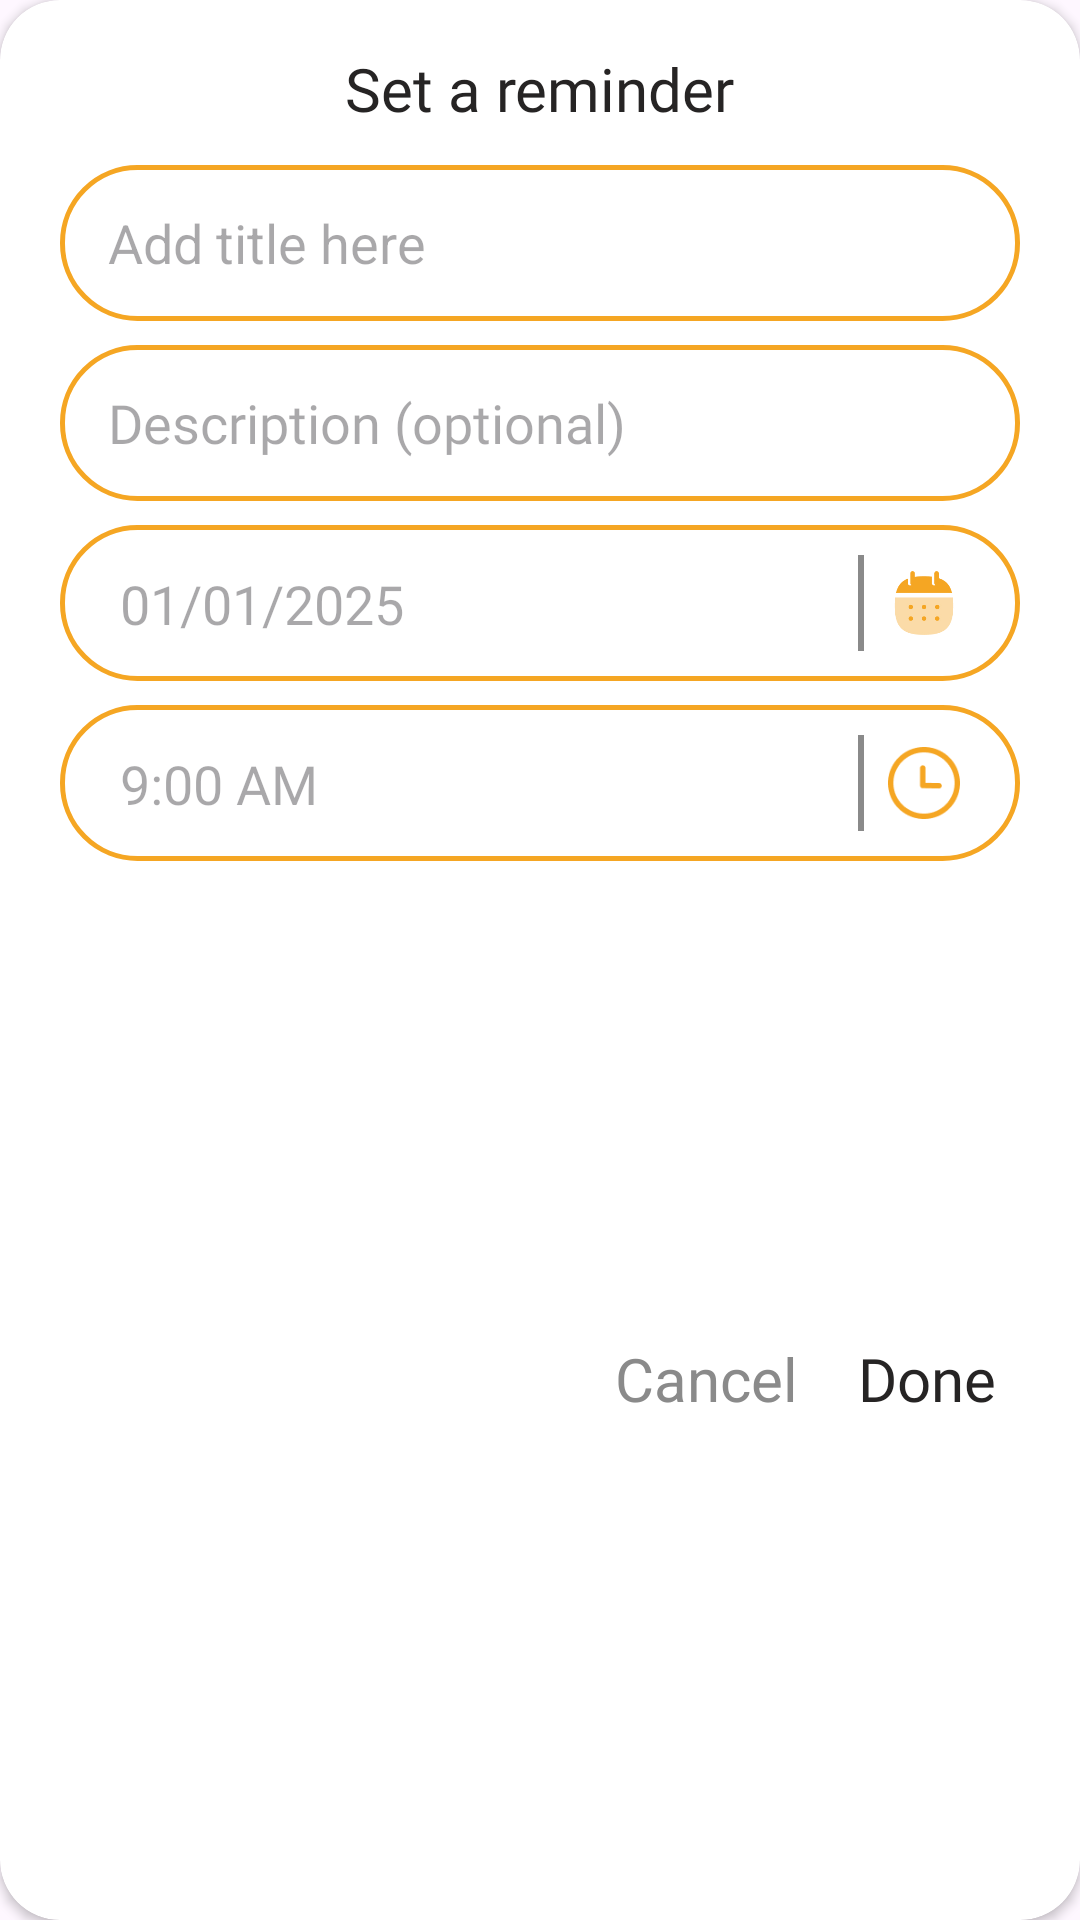

Icon bounding boxes for this 1080px×1920px phone screenshot, format (x1, y1, x2, y2):
calender: (895, 571, 953, 635)
